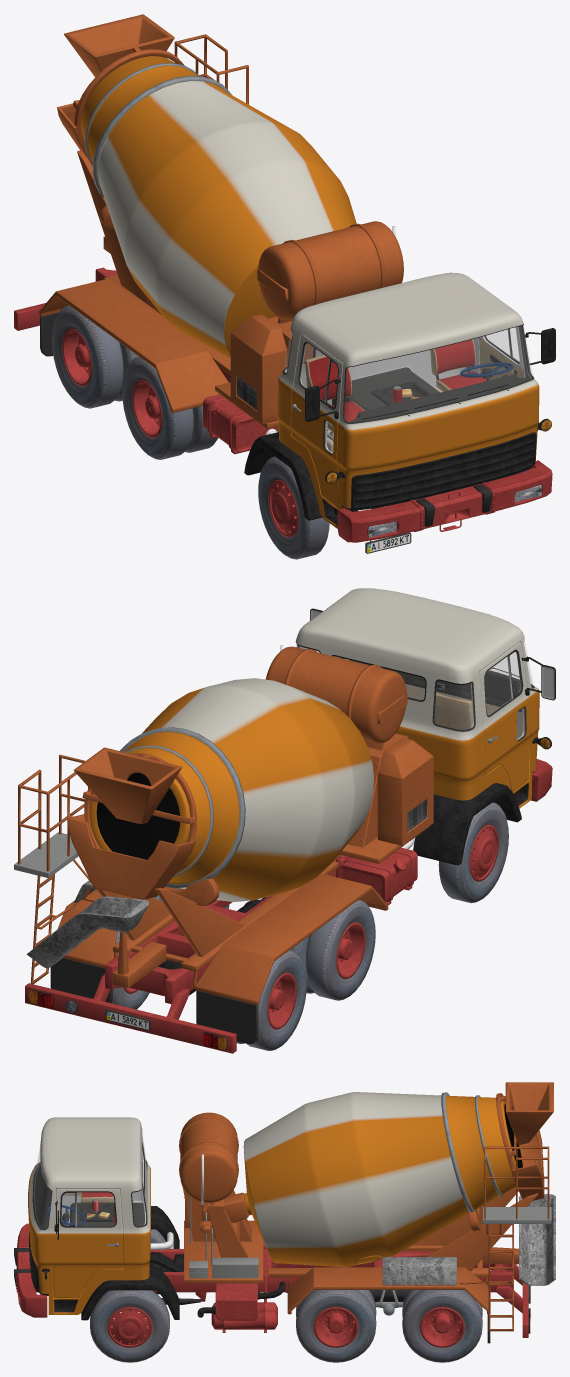
The model's file is sk_mixer4k.glb.
3 views of the same model, one above another, from view 1: azimuth 30°, elevation 25°; view 2: azimuth 150°, elevation 25°; view 3: azimuth 270°, elevation 25° (orthographic). The views are drawn at different scales.
Visible parts, largest first — view 1: mixer_tank, cab, mixer, windows, base_frame, cab_interior, right_rear_wheel_1, right_middle_wheel_1, right_front_wheel, right_drivers_window, right_middle_wheel_2; view 2: mixer, mixer_tank, cab, base_frame, right_middle_wheel_1, right_front_wheel, windows, right_rear_wheel_1, cab_interior, unloading_chute, right_drivers_window, left_rear_wheel_2; view 3: mixer_tank, mixer, cab, base_frame, left_middle_wheel_1, left_rear_wheel_1, left_front_wheel, unloading_chute, windows, cab_interior, unloading_chute_2, left_drivers_windows (+1 smaller).
Boxes of the visible parts, x1,y1,x2,y2 form: mixer_tank: [81, 56, 356, 358]; cab: [244, 272, 551, 528]; mixer: [39, 14, 403, 431]; windows: [282, 324, 534, 455]; base_frame: [14, 267, 552, 542]; cab_interior: [284, 326, 531, 453]; right_rear_wheel_1: [52, 305, 123, 408]; right_middle_wheel_1: [122, 357, 193, 459]; right_front_wheel: [258, 456, 329, 559]; right_drivers_window: [300, 343, 328, 400]; right_middle_wheel_2: [185, 406, 218, 452]; mixer: [14, 645, 433, 1043]; mixer_tank: [89, 678, 373, 901]; cab: [295, 588, 551, 865]; base_frame: [25, 759, 552, 1053]; right_middle_wheel_1: [305, 899, 375, 1000]; right_front_wheel: [438, 802, 508, 903]; windows: [295, 641, 534, 741]; right_rear_wheel_1: [246, 950, 306, 1050]; cab_interior: [299, 646, 531, 739]; unloading_chute: [27, 896, 149, 968]; right_drivers_window: [485, 657, 511, 714]; left_rear_wheel_2: [112, 931, 149, 1009]; mixer_tank: [243, 1092, 523, 1267]; mixer: [179, 1082, 553, 1343]; cab: [28, 1117, 179, 1320]; base_frame: [14, 1223, 530, 1337]; left_middle_wheel_1: [296, 1290, 376, 1362]; left_rear_wheel_1: [402, 1290, 482, 1362]; left_front_wheel: [90, 1290, 169, 1362]; unloading_chute: [519, 1194, 555, 1285]; windows: [33, 1135, 147, 1230]; cab_interior: [34, 1150, 145, 1228]; unloading_chute_2: [382, 1257, 456, 1285]; left_drivers_windows: [77, 1192, 115, 1225].
Bounding box in the file's own units: 3.58 × 4.15 × 8.85.
Materials: 57 (46 with a texture image).
